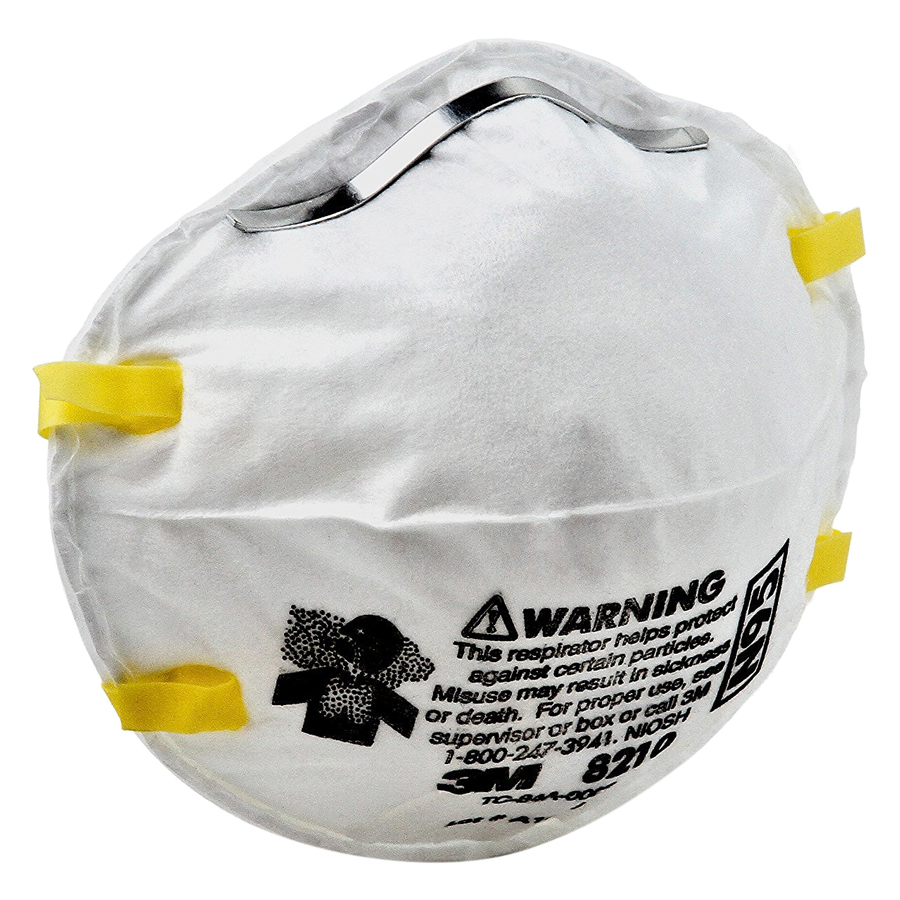3M: (437, 762, 549, 800)
